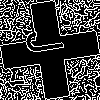J: (25, 25, 74, 57)
